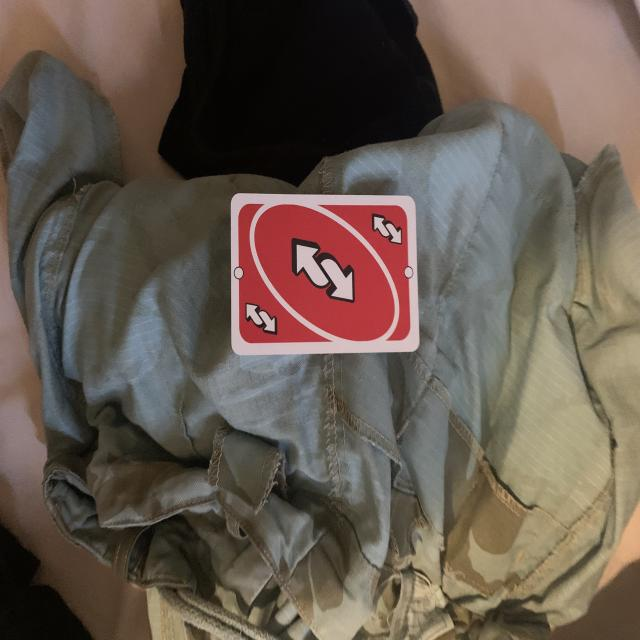lredrevers-20: (368, 210, 407, 245)
